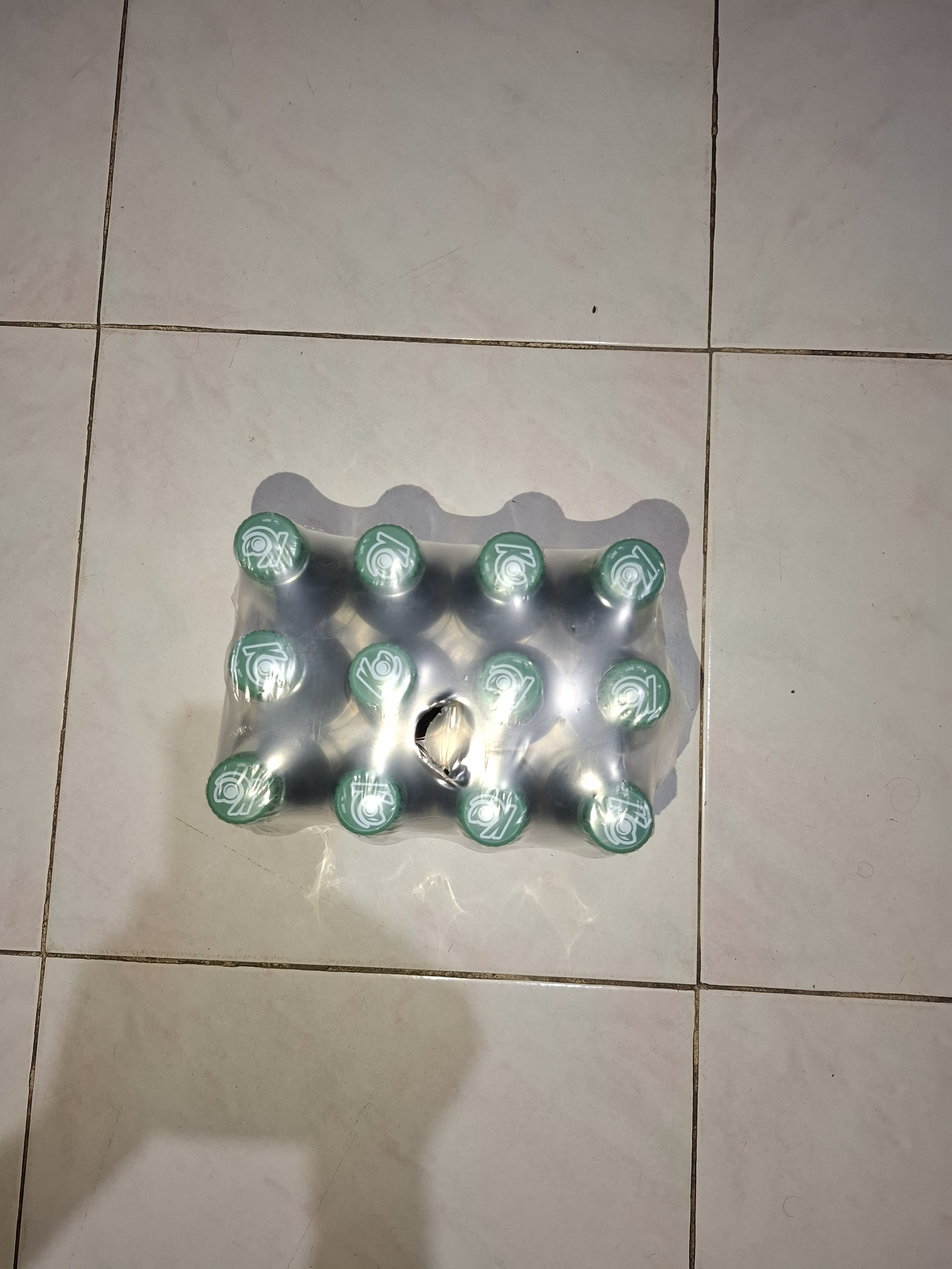Tampa Refrigerante Kuat: (596, 650, 675, 736), (207, 746, 283, 834), (350, 516, 425, 602), (470, 647, 549, 725), (230, 624, 308, 703), (229, 507, 305, 588), (579, 776, 656, 855), (347, 638, 422, 717), (459, 770, 532, 851), (333, 756, 403, 840), (599, 535, 669, 608), (481, 532, 543, 605)
